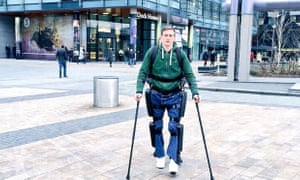feet: (147, 147, 185, 176)
